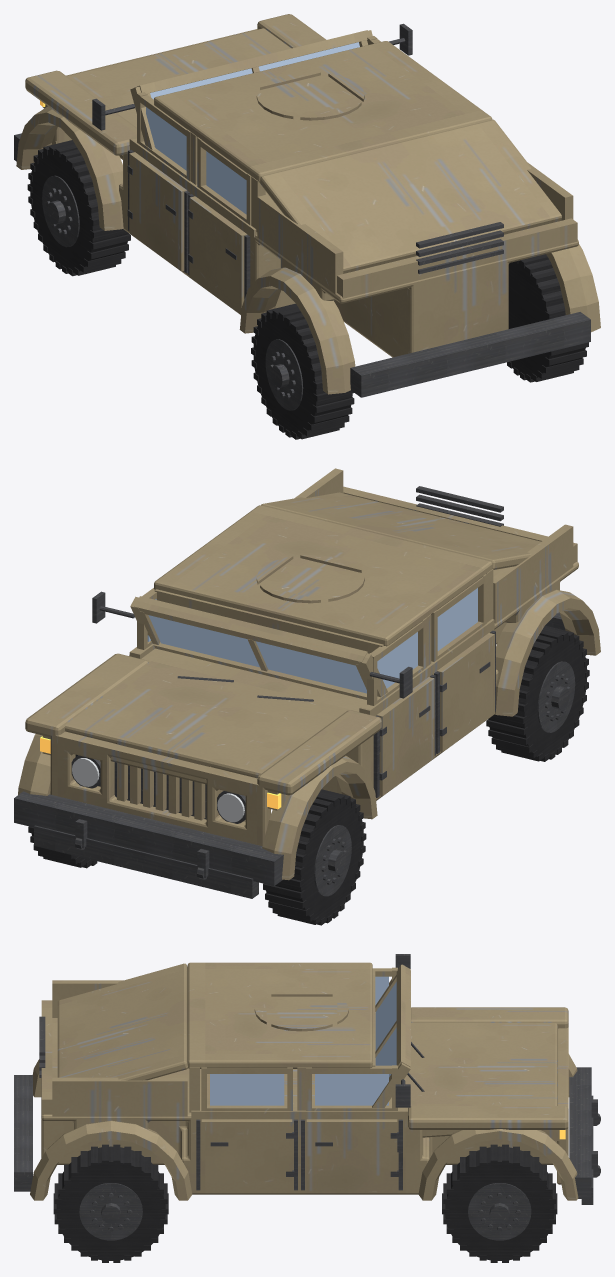
The model's file is humvee.glb.
3 views of the same model, one above another, from view 1: azimuth 30°, elevation 25°; view 2: azimuth 150°, elevation 25°; view 3: azimuth 270°, elevation 25° (orthographic). The views are drawn at different scales.
Parts seen in each view (by area): view 1: humvee; view 2: humvee; view 3: humvee.
Boxes of the visible parts, left/top/right/bottom form: humvee: left=14, top=14, right=600, bottom=439; humvee: left=14, top=468, right=600, bottom=925; humvee: left=14, top=954, right=600, bottom=1262.
Size of the model in its own units: 2.66 by 1.84 by 4.99.
7 materials, 4 textured.
